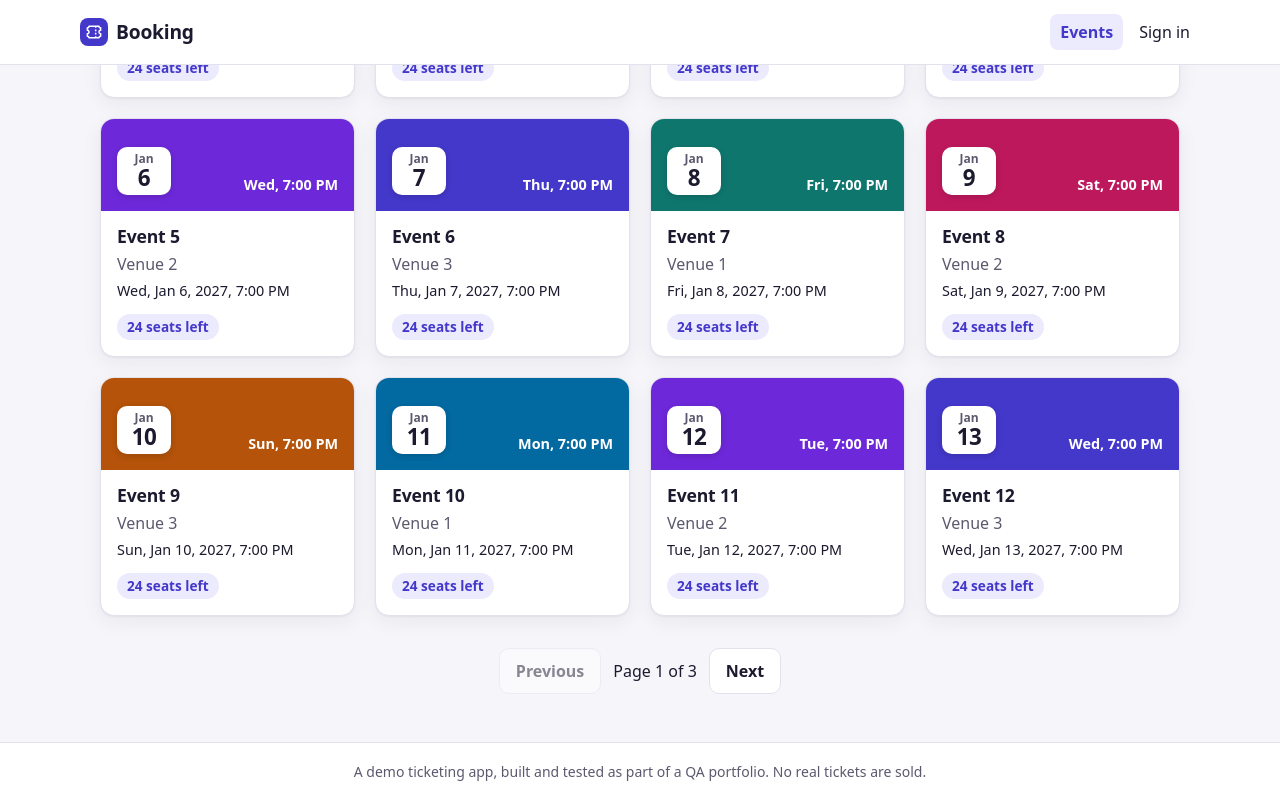
EventsPage › pages forward and back
(page scrolled)
Check: the text "Page 1 of 3" is shown, box x1=613 y1=659 x2=697 y2=683
Check: the button "Previous" is disabled, box x1=499 y1=648 x2=601 y2=694
Click the button "Next" at (745, 671), box x1=709 y1=648 x2=781 y2=694
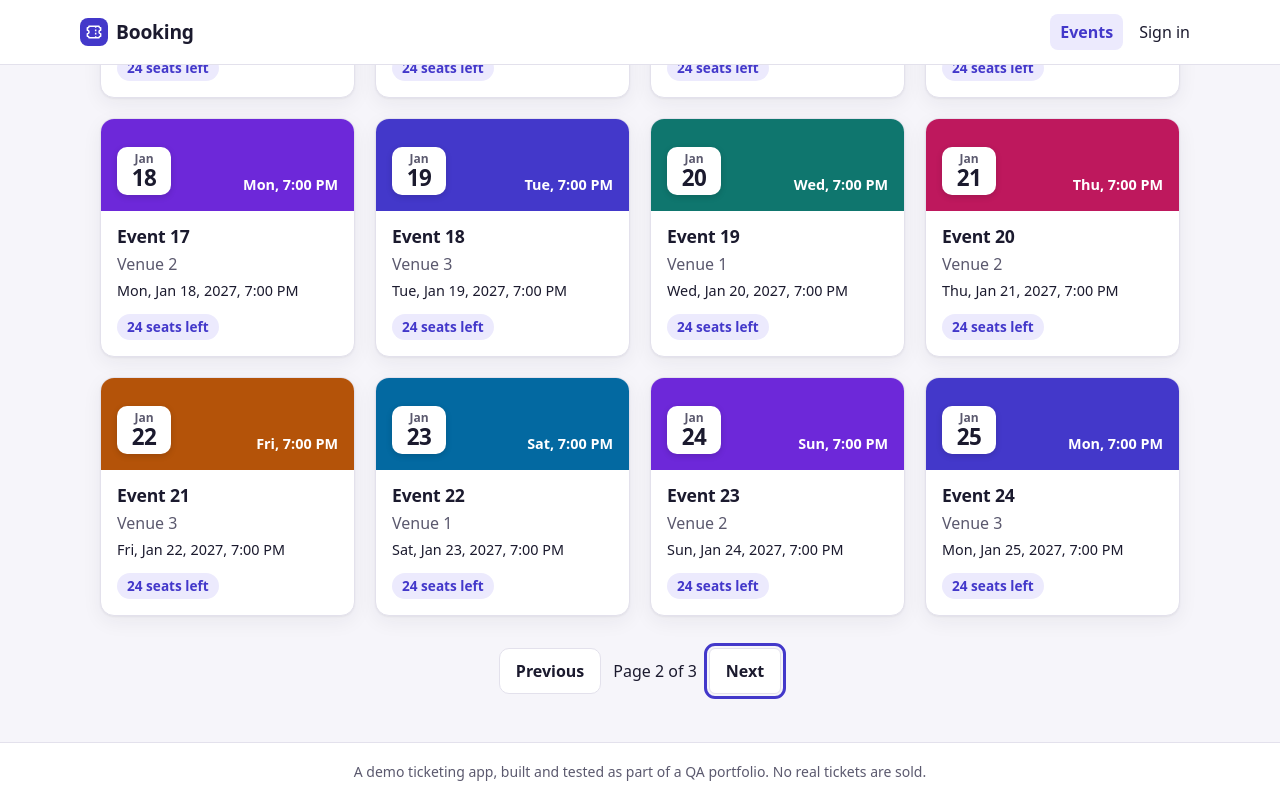
Click the button "Next" at (745, 671), box x1=709 y1=648 x2=781 y2=694
(page scrolled)
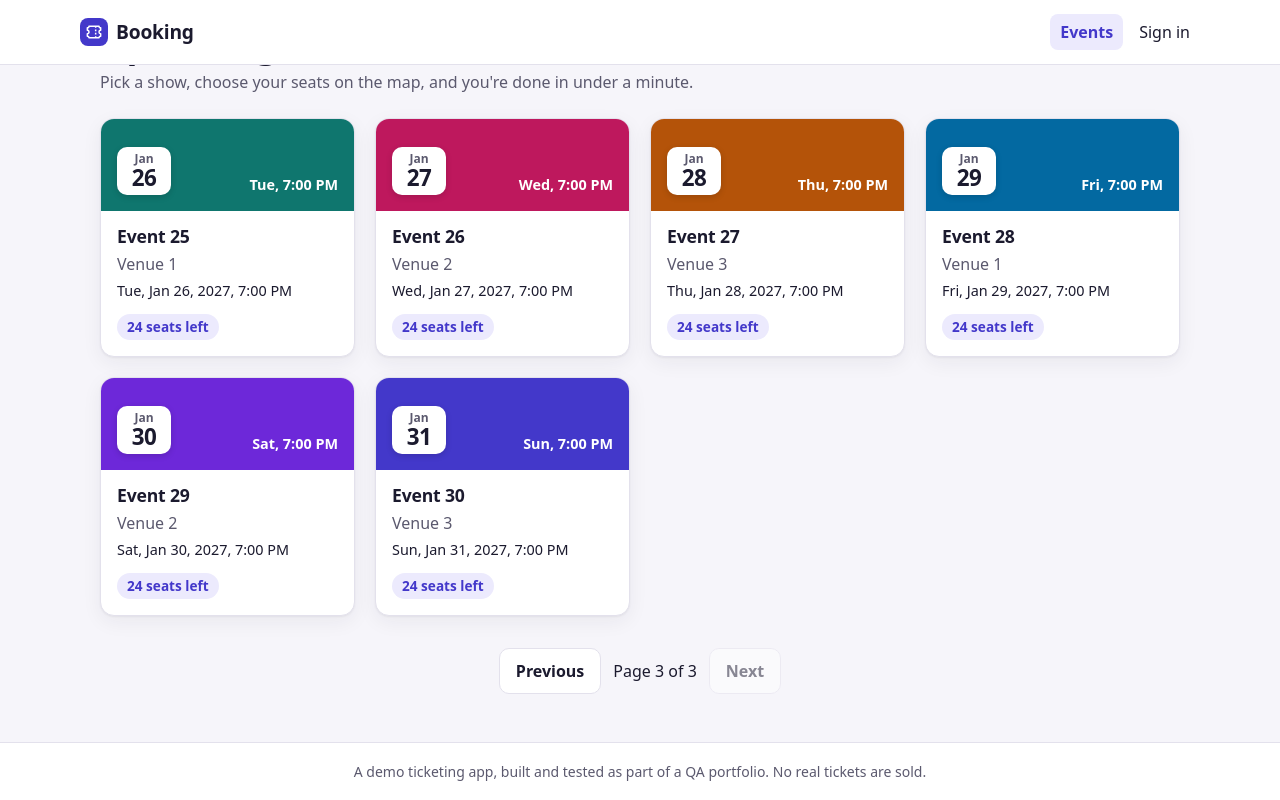
Check: the text "Page 3 of 3" is shown, box x1=613 y1=659 x2=697 y2=683
Check: the button "Next" is disabled, box x1=709 y1=648 x2=781 y2=694
Click the button "Previous" at (550, 671), box x1=499 y1=648 x2=601 y2=694
(page scrolled)
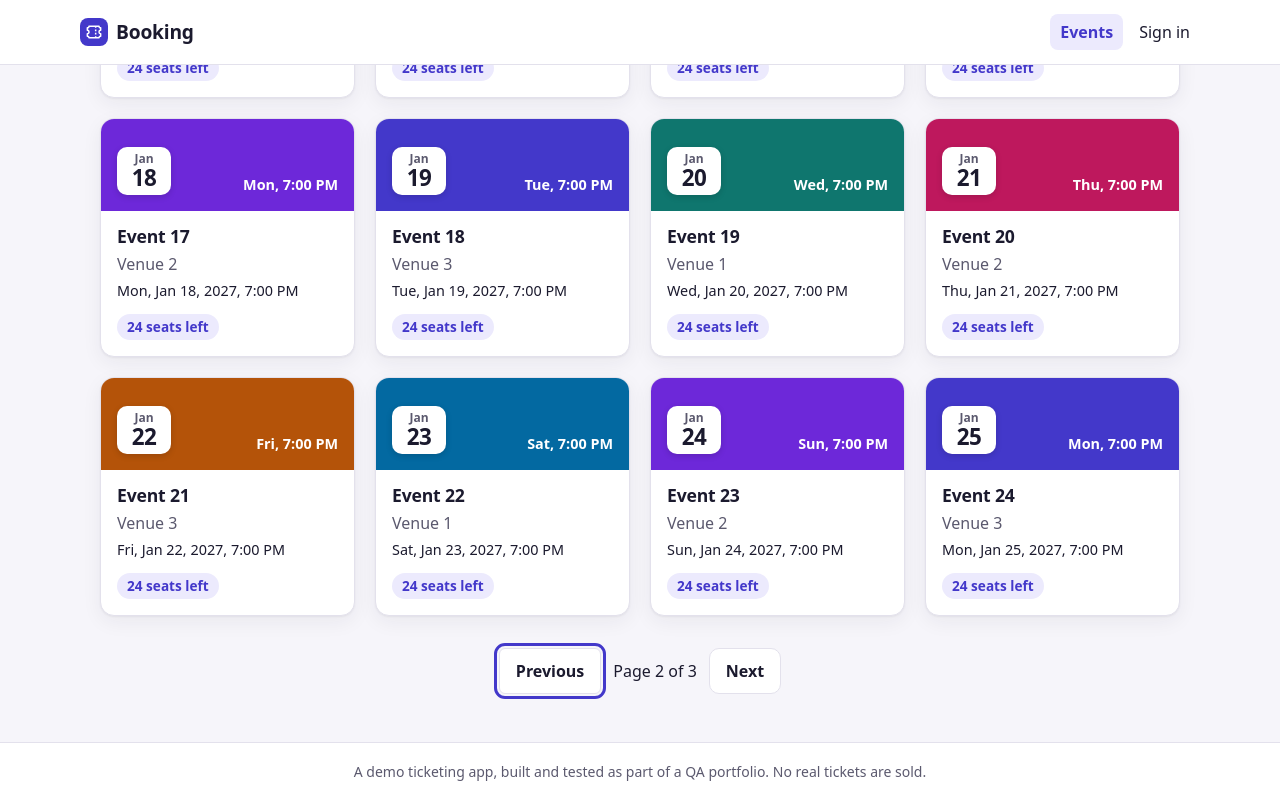
Check: the text "Page 2 of 3" is shown, box x1=613 y1=659 x2=697 y2=683
